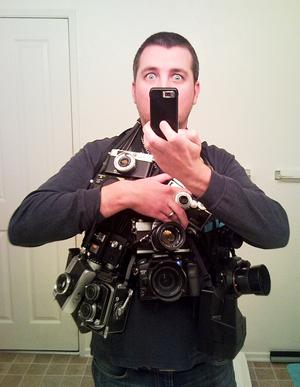person: (9, 32, 290, 383)
